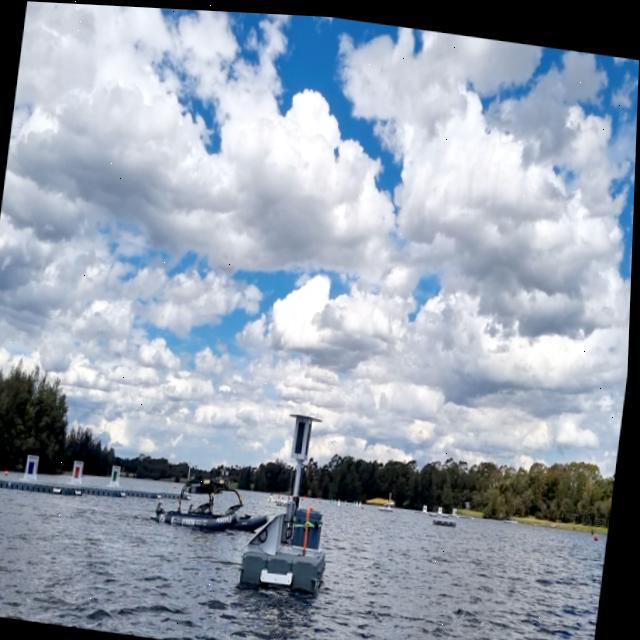led: (296, 414, 309, 453)
